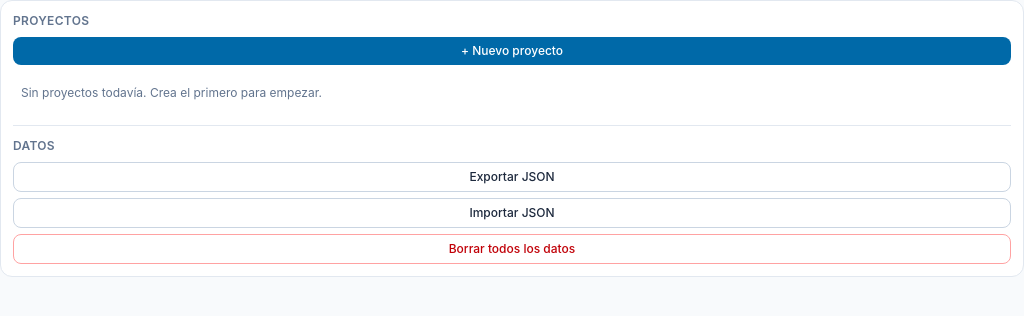
Test: Sidebar › crea un proyecto desde el botón
This screenshot has width=1024, height=316.
Click the button "+ Nuevo proyecto".
click(512, 51)  # box [13,37,1011,65]
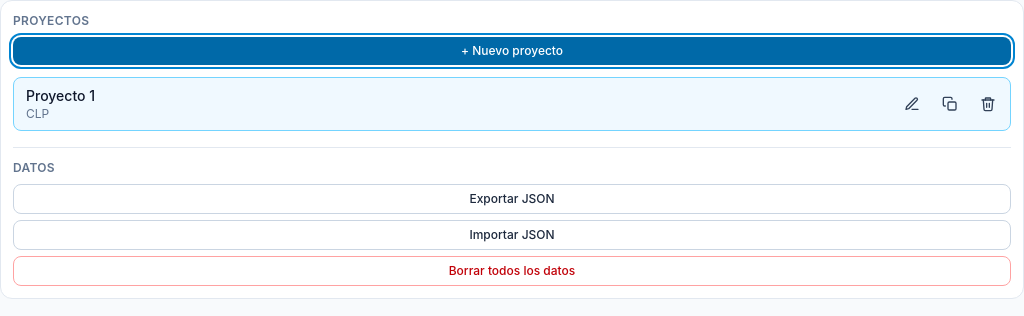
Check: the text "Proyecto 1" is shown, box [26,87,95,104]
